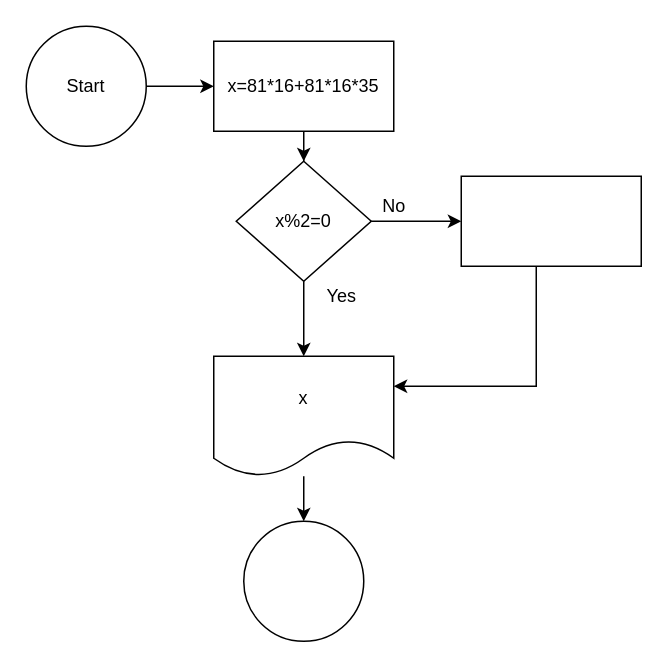
Image size: 668x668. Some labels were removed from this diagram. The shapes that lost their labels are listed below. From the top down, each one's centre as x and y in pixels, then its label:
the point at 550,220: x/3
the point at 303,580: DUR
